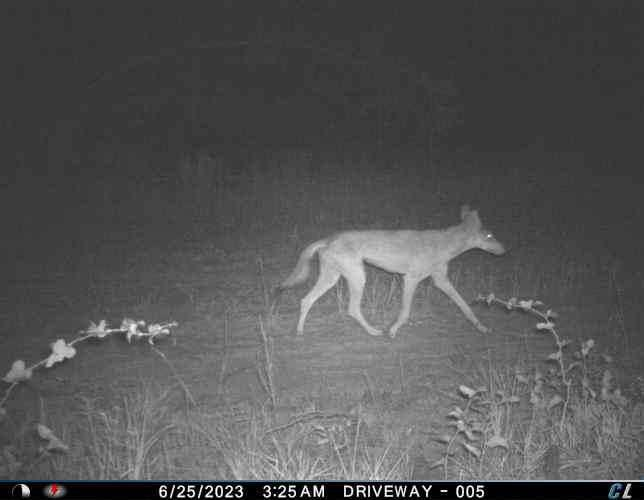Coyote: (272, 200, 508, 342)
